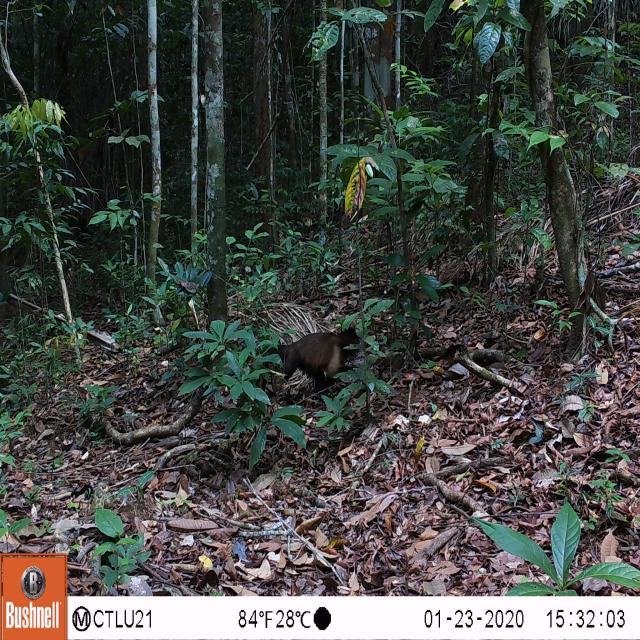Margarita Island Capuchin: (252, 314, 365, 404)
